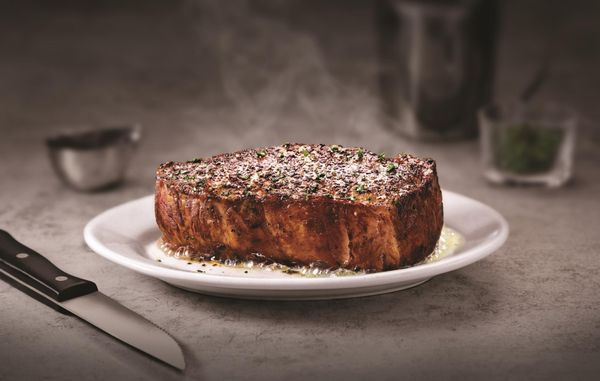pizza: (477, 99, 579, 188), (45, 122, 144, 193)
sandwich: (1, 228, 188, 371)
